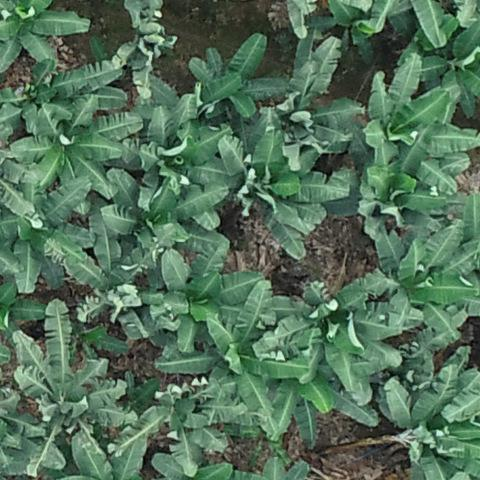Banana-plant: (149, 282, 311, 437), (271, 279, 421, 397), (12, 301, 138, 441), (244, 28, 365, 168), (216, 135, 347, 259), (364, 55, 480, 193), (100, 165, 227, 286), (142, 244, 262, 349), (377, 219, 480, 341), (63, 228, 167, 343), (268, 351, 382, 450), (2, 172, 94, 290), (386, 366, 480, 480), (16, 99, 121, 193), (360, 119, 444, 225), (0, 63, 129, 119), (188, 35, 284, 107), (419, 17, 480, 114), (0, 0, 91, 62)
